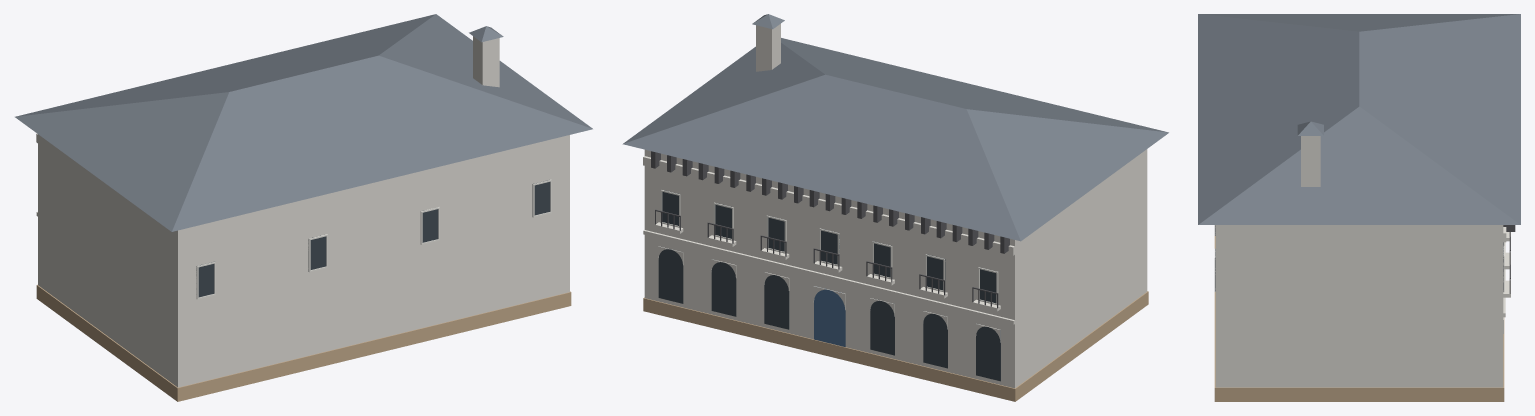
Rendered from ca_classical2.glb.
3 views of the same model, side by side, from view 1: azimuth 30°, elevation 25°; view 2: azimuth 150°, elevation 25°; view 3: azimuth 270°, elevation 25° (orthographic). The views are drawn at different scales.
Visible parts, largest first — view 1: ca_classical2; view 2: ca_classical2; view 3: ca_classical2.
Boxes of the visible parts, x1,y1,x2,y2 form: ca_classical2: (15,14,592,401); ca_classical2: (622,14,1168,401); ca_classical2: (1198,14,1520,401).
Size of the model in its own units: 22.6 by 13.05 by 14.6.
